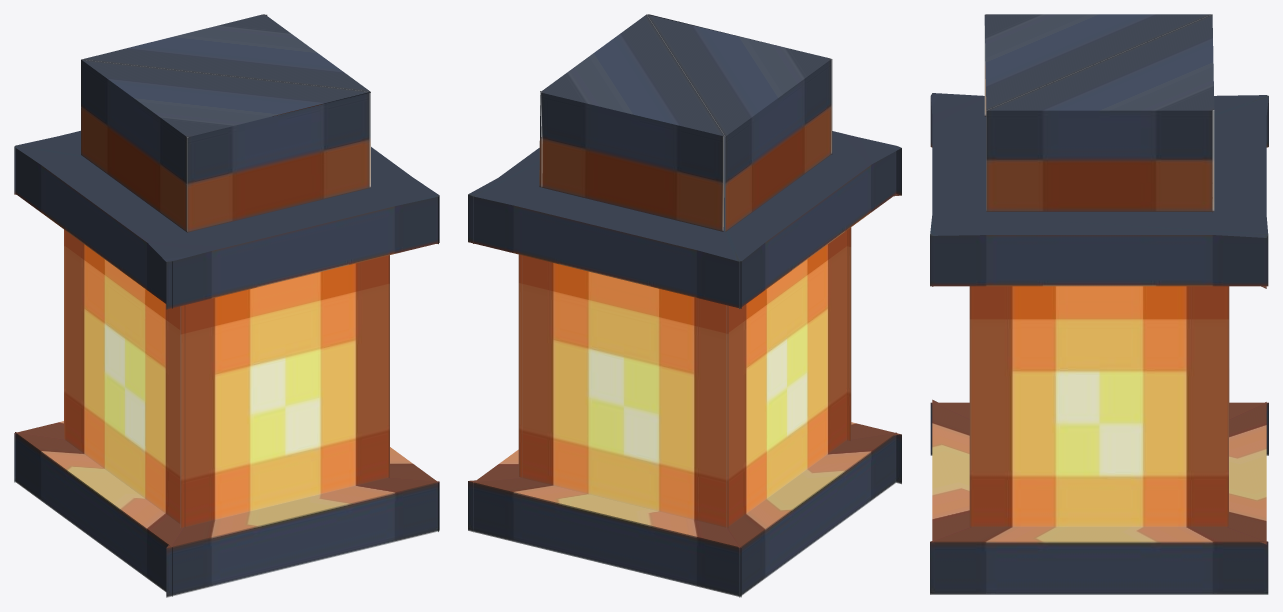
The model's file is lamp.glb.
3 views of the same model, side by side, from view 1: azimuth 30°, elevation 25°; view 2: azimuth 150°, elevation 25°; view 3: azimuth 270°, elevation 25° (orthographic). The views are drawn at different scales.
Parts seen in each view (by area): view 1: be39a15f77fb4057a86500675cd02574.001; view 2: be39a15f77fb4057a86500675cd02574.001; view 3: be39a15f77fb4057a86500675cd02574.001.
Part boxes in pixels (x1,y1,x2,y2): be39a15f77fb4057a86500675cd02574.001: (14,14,439,597); be39a15f77fb4057a86500675cd02574.001: (468,14,901,597); be39a15f77fb4057a86500675cd02574.001: (930,14,1268,594).
Size of the model in its own units: 0.6247 by 0.9291 by 0.617.
5 materials, 5 textured.
